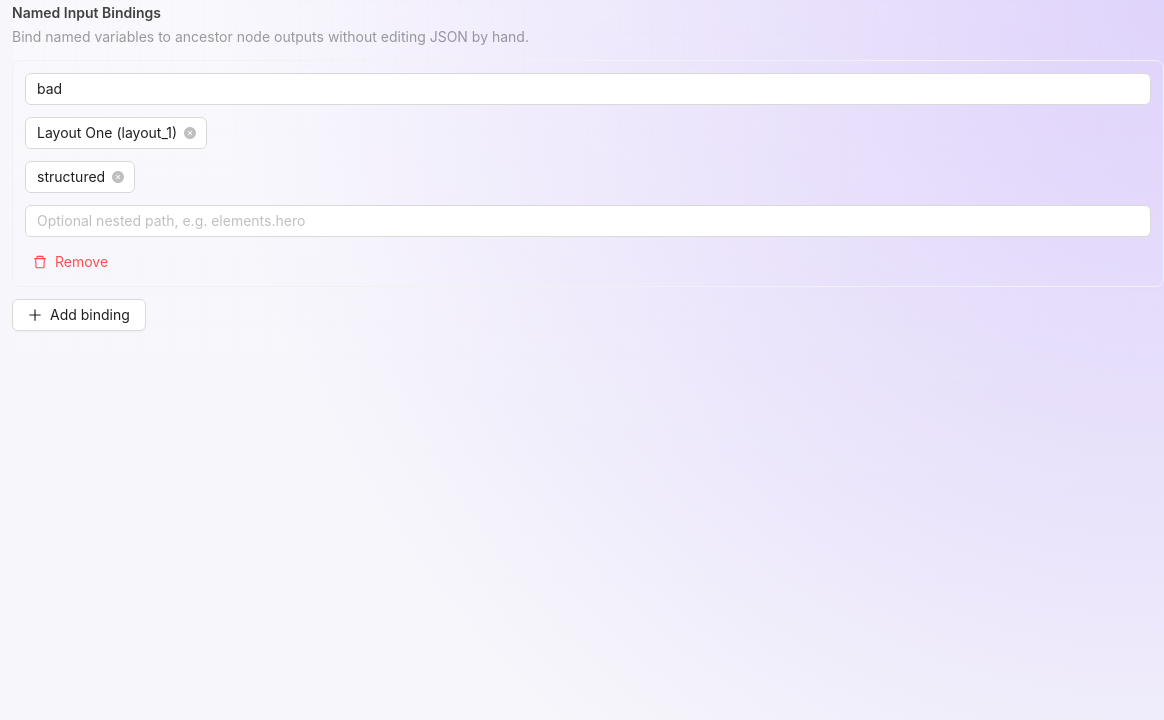
VariablePicker › rejects unsafe nested selector segments in the UI
Type "item" into the field with test id "binding-path-input-0" at [588, 221], box [25,205,1151,237]
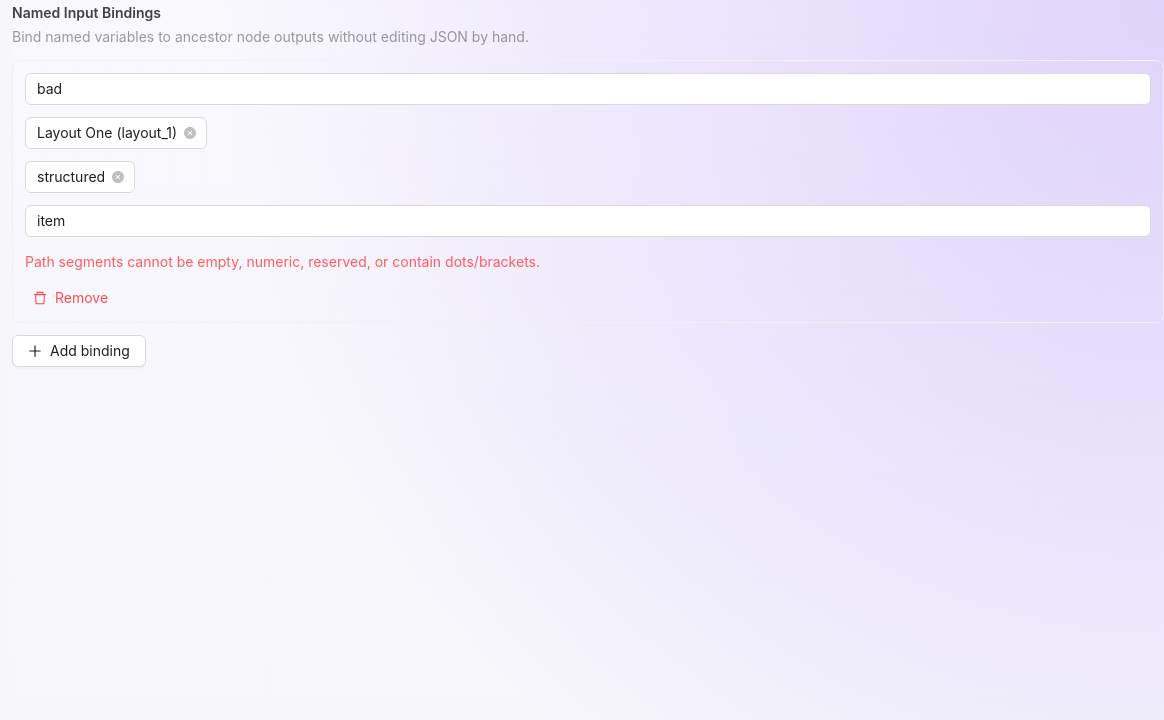
Check: the text "Path segments cannot be empty, numeric, reserved, or contain dots/brackets." is shown, box [25,253,540,270]
